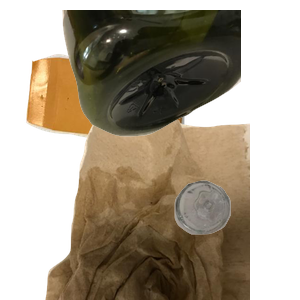glass: (172, 178, 300, 300)
paper: (23, 51, 206, 189)
plastic: (60, 10, 300, 139)
trash: (43, 120, 283, 300)
